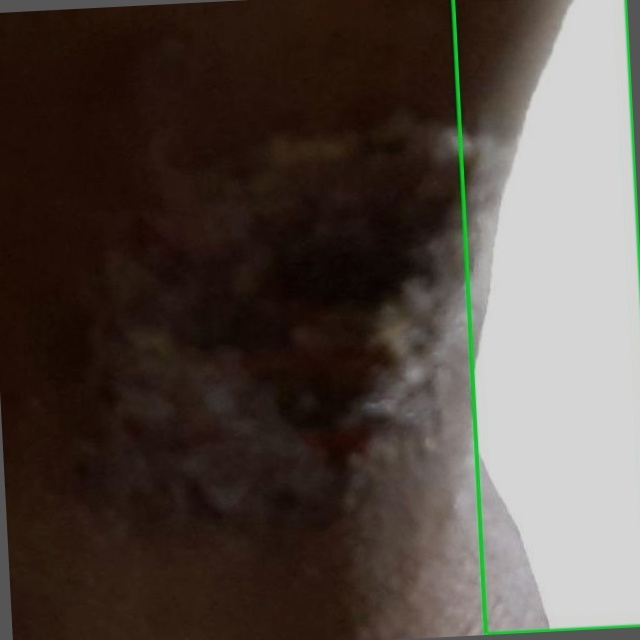Eczema: (453, 0, 639, 634)
